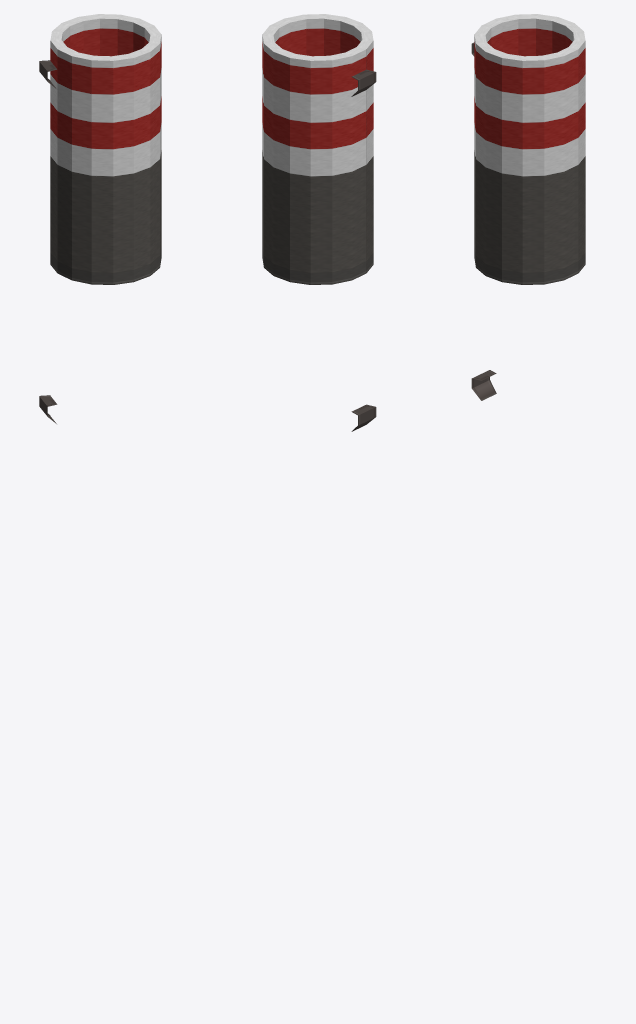
File: industrial_smokestack.obj
3 renders of one model, left to right at view 1: azimuth 30°, elevation 25°; view 2: azimuth 150°, elevation 25°; view 3: azimuth 330°, elevation 25°, orthographic.
Visible parts, largest first — view 1: Plane; view 2: Plane; view 3: Plane.
Part boxes in pixels (box(x1,y1,x2,y2)): Plane: box(39, 14, 161, 423); Plane: box(262, 14, 376, 431); Plane: box(471, 14, 585, 400).
Bounding box in the file's own units: 3 × 23 × 3.
